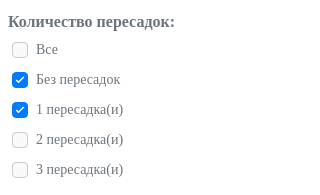
Test case: <StopsFilter /> › should uncheck all other checkboxes when "All" is selected
Click the checkbox with test id "checkbox-2" at (20, 140), box top-left (12, 132), bottom-right (28, 148)
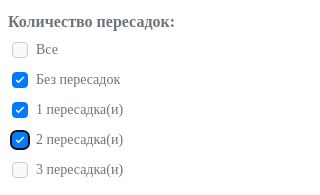
Expected: the checkbox with test id "checkbox-0" is checked, top-left (12, 72), bottom-right (28, 88)
Now the checkbox with test id "checkbox-2" is checked, box top-left (12, 132), bottom-right (28, 148)
Click the checkbox with test id "checkbox-all" at (20, 50), box top-left (12, 42), bottom-right (28, 58)
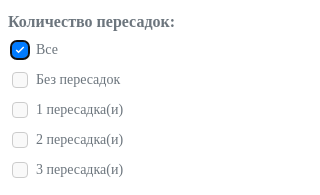
Now the checkbox with test id "checkbox-all" is checked, box top-left (12, 42), bottom-right (28, 58)
Now the checkbox with test id "checkbox-0" is not checked, box top-left (12, 72), bottom-right (28, 88)
Now the checkbox with test id "checkbox-1" is not checked, box top-left (12, 102), bottom-right (28, 118)
